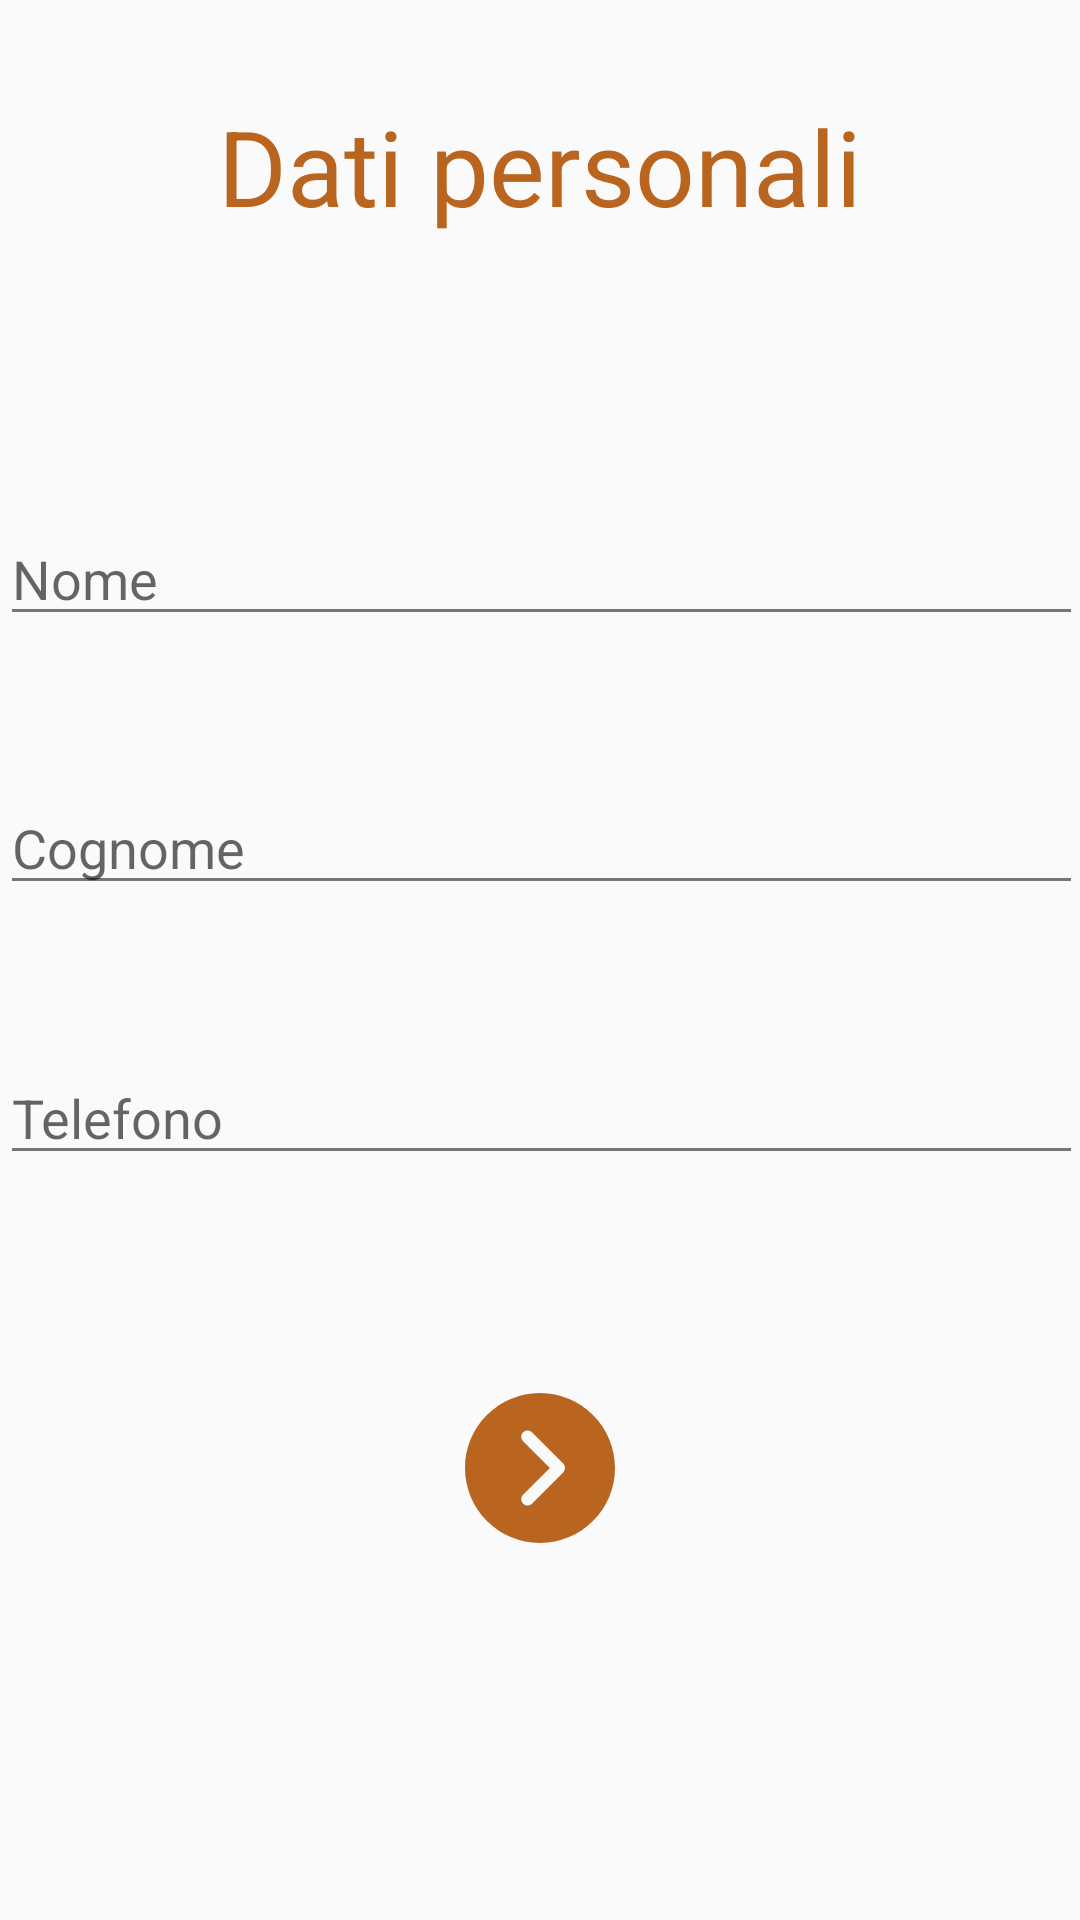

Icons on this 1080px×1920px Android screen, each with the point to tap as point (x, y):
right arrow: point (540, 1468)
